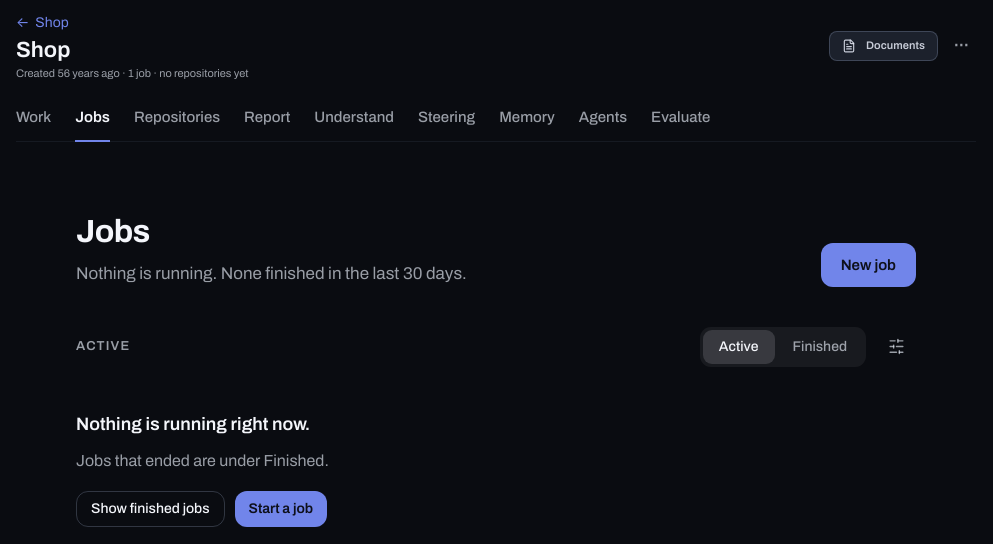
Test case: S6 project and requirements presentation › falls back to Untitled job when the job has no words — never its id
Click the radio button with test id "desk-runs-group-finished" at (820, 347), box left=776, top=330, right=863, bottom=364
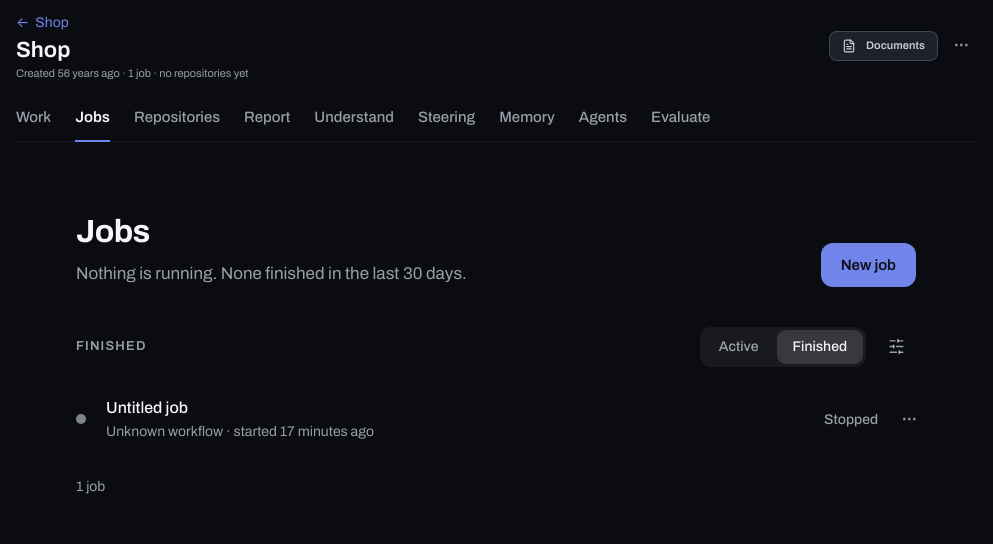
Expected: the link "Untitled job" is shown, left=76, top=399, right=878, bottom=439
Expected: the panel with test id "desk-runs" shows "Stopped", left=56, top=383, right=886, bottom=456
